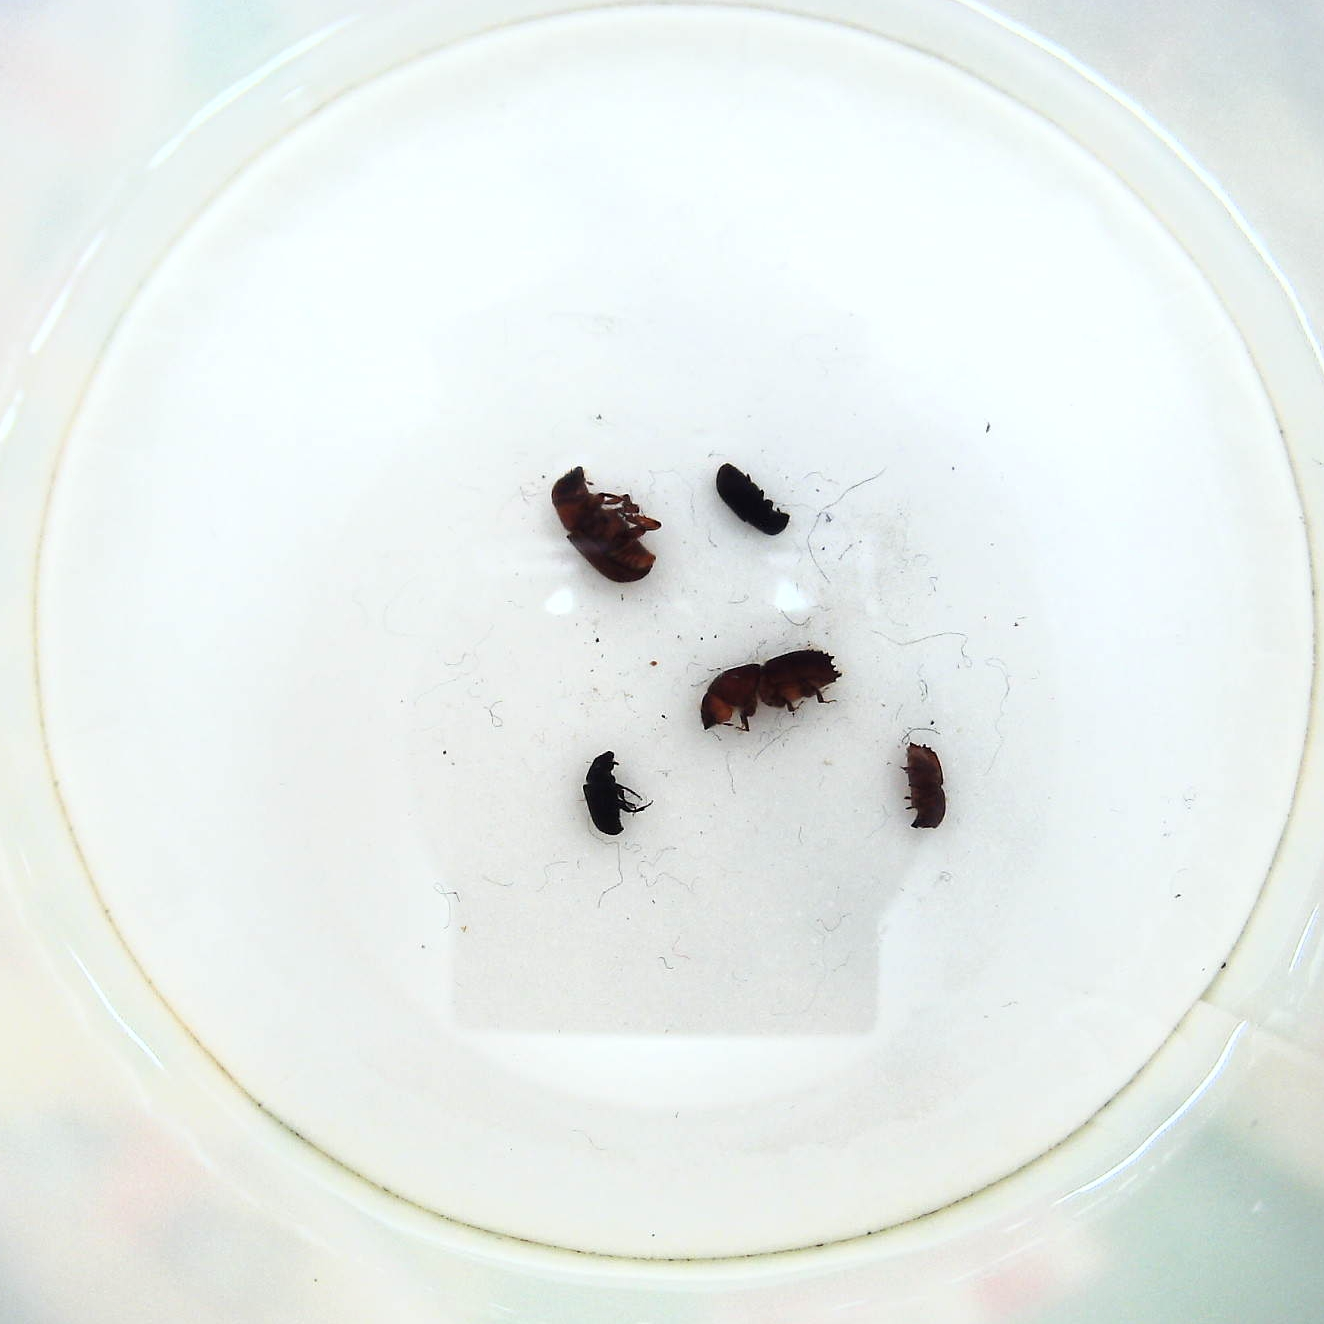Boerner: (697, 647, 844, 736)
Leconte: (544, 466, 666, 587)
armandi: (710, 463, 795, 546)
coleoptera: (583, 748, 651, 843)
linnaeus: (895, 738, 955, 837)
